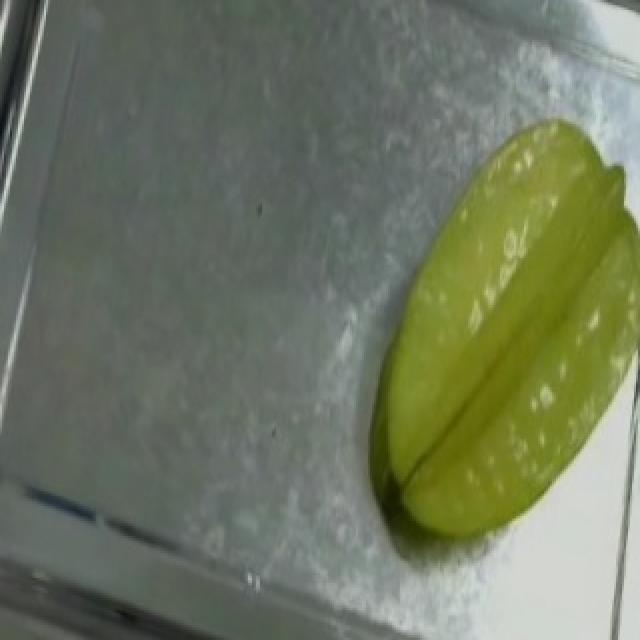fruit: (412, 82, 640, 494)
